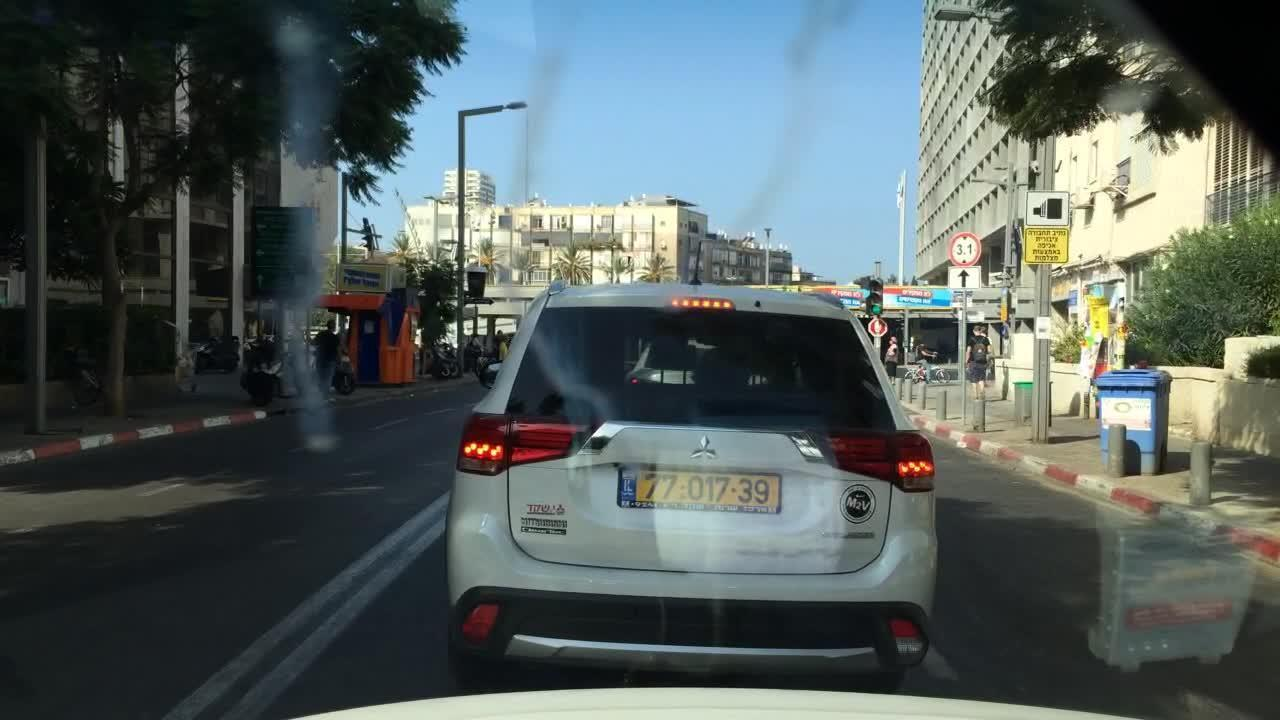Mitsubishi: (684, 428, 725, 462)
